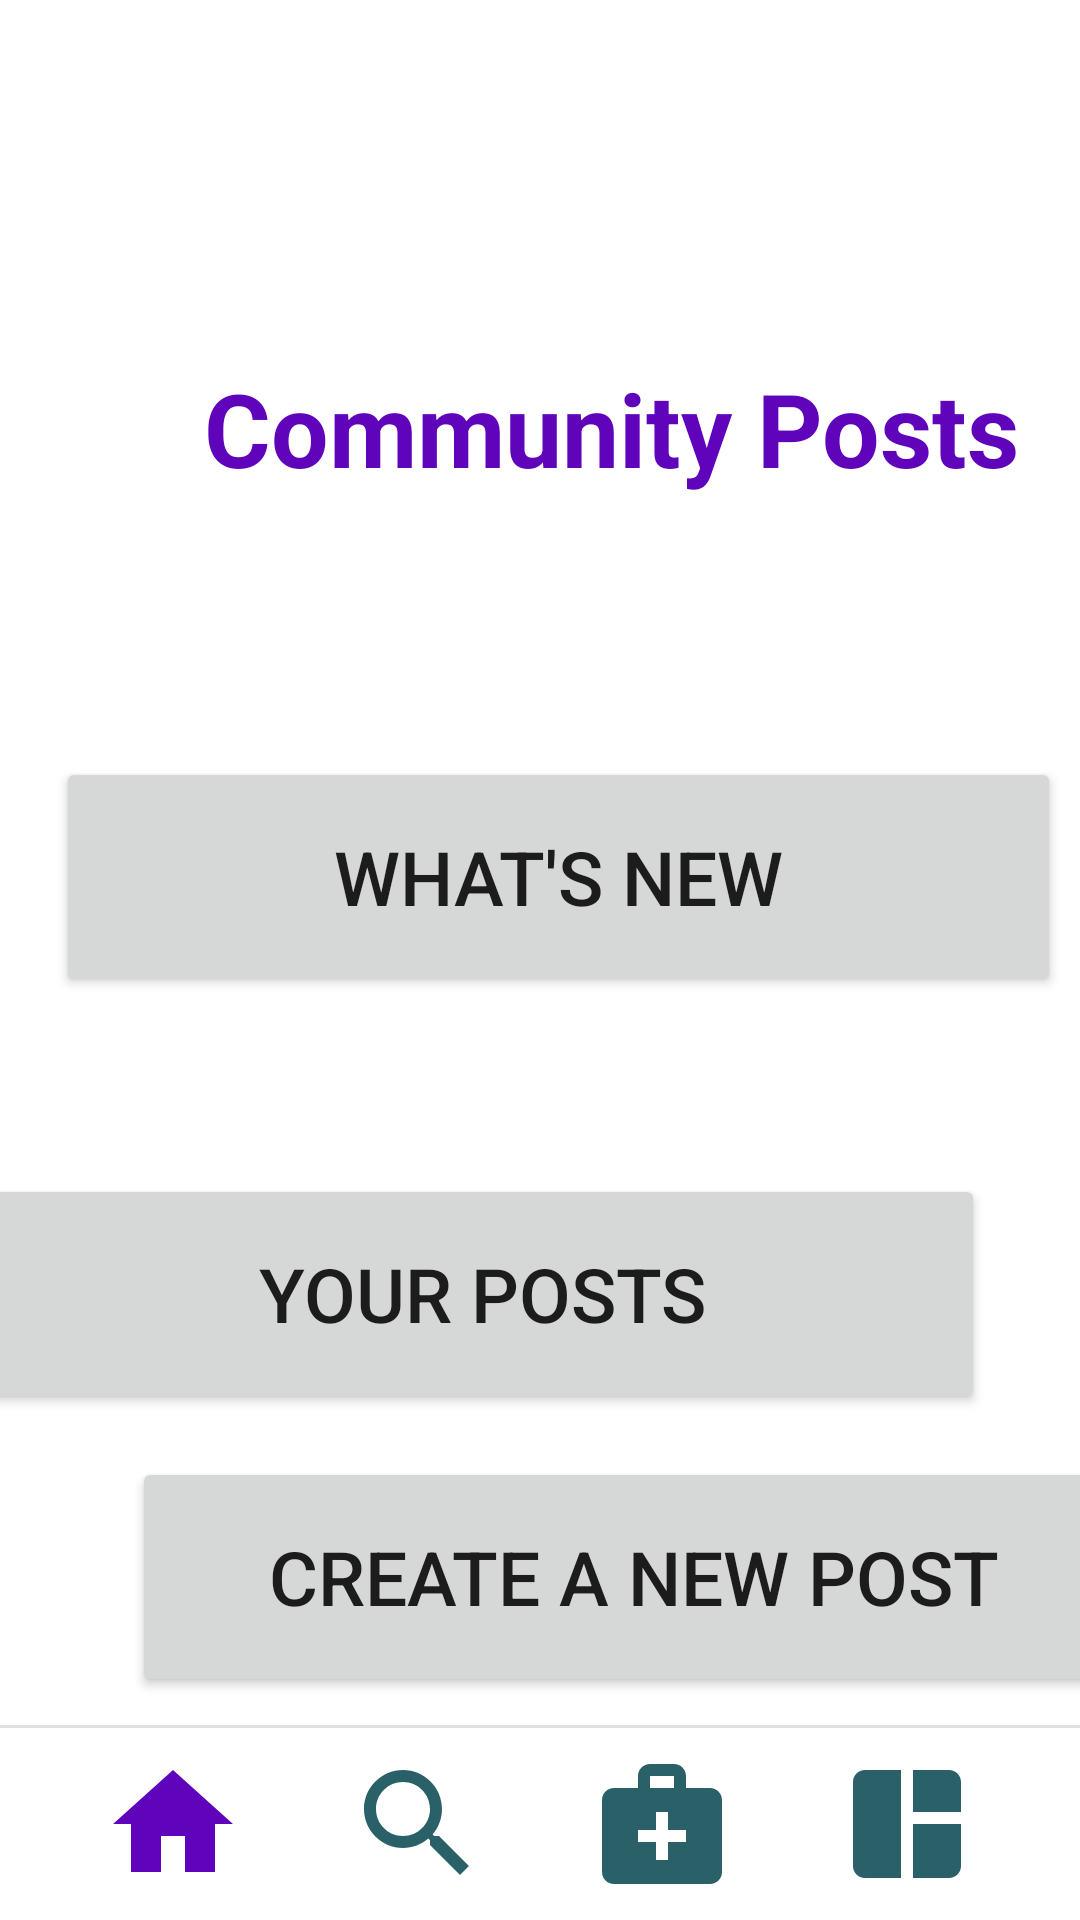

Screen size 1080px x 1920px. Icon name, then its box in pixels as {"left": x1, "top": y1, "right": x2, "bottom": y2}:
dashboard: {"left": 853, "top": 1770, "right": 961, "bottom": 1878}
health: {"left": 602, "top": 1764, "right": 722, "bottom": 1884}
home: {"left": 113, "top": 1770, "right": 233, "bottom": 1872}
search: {"left": 364, "top": 1770, "right": 469, "bottom": 1875}
